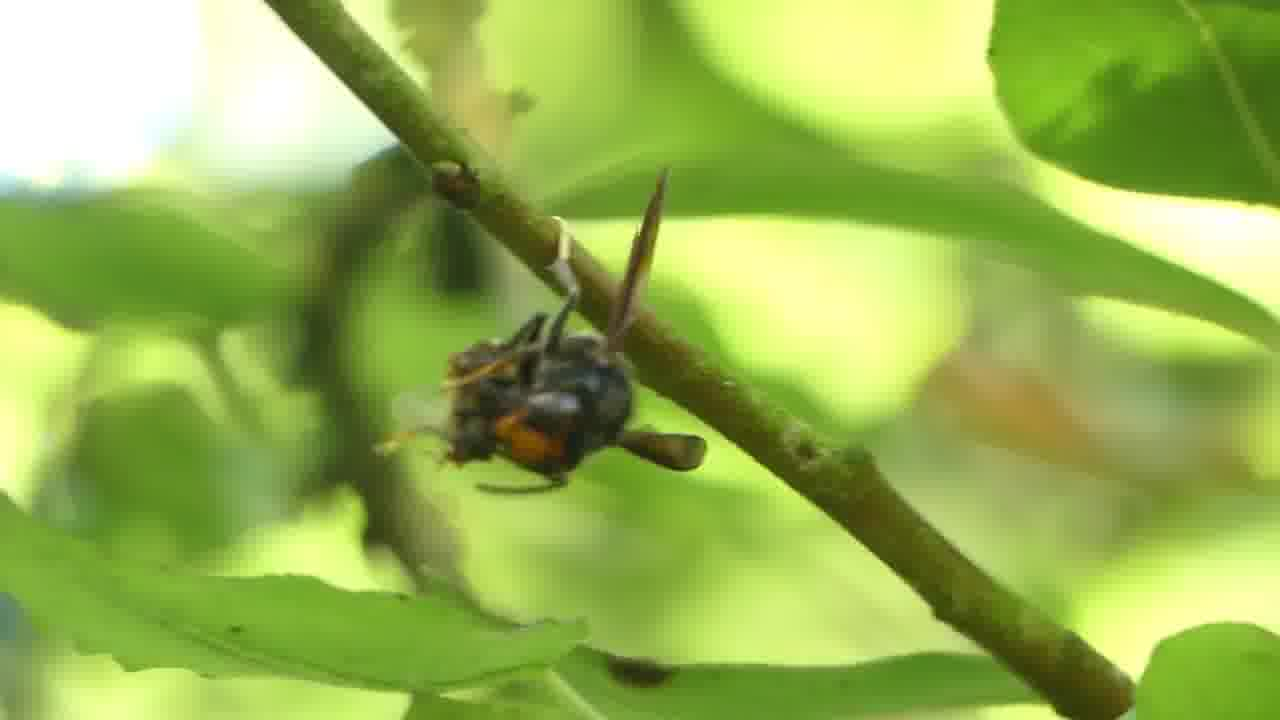hornet: (423, 275, 731, 503)
